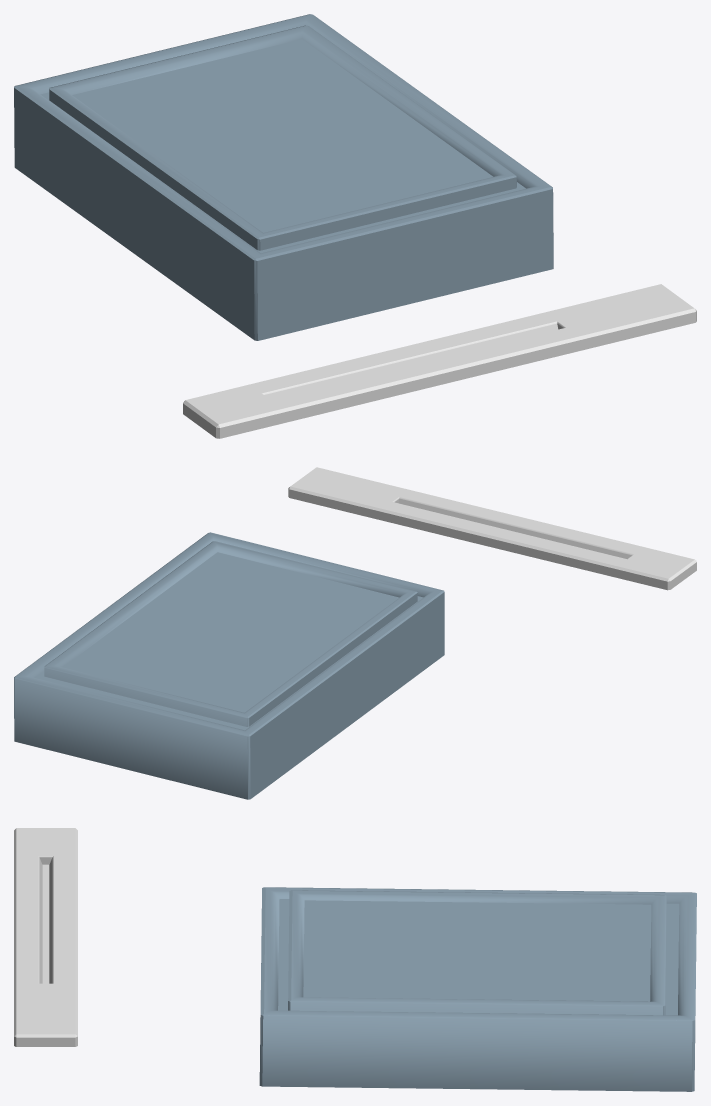
File: gill.fbx
3 views of the same model, one above another, from view 1: azimuth 30°, elevation 25°; view 2: azimuth 150°, elevation 25°; view 3: azimuth 270°, elevation 25° (orthographic). The views are drawn at different scales.
Visible parts, largest first — view 1: Cube_89, Cube_88, Box001; view 2: Cube_89, Cube_88, Box001; view 3: Cube_89, Cube_88, Box001.
Boxes of the visible parts, x1=… form: Cube_89: x1=49, y1=25, x2=516, y2=250; Cube_88: x1=14, y1=14, x2=553, y2=340; Box001: x1=183, y1=284, x2=696, y2=438; Cube_89: x1=44, y1=541, x2=417, y2=726; Cube_88: x1=14, y1=532, x2=444, y2=799; Box001: x1=288, y1=467, x2=696, y2=590; Cube_89: x1=288, y1=890, x2=666, y2=1015; Cube_88: x1=259, y1=887, x2=696, y2=1091; Box001: x1=14, y1=828, x2=77, y2=1046.
Bounding box in the file's own units: 39.74 × 55.1 × 7.22.
